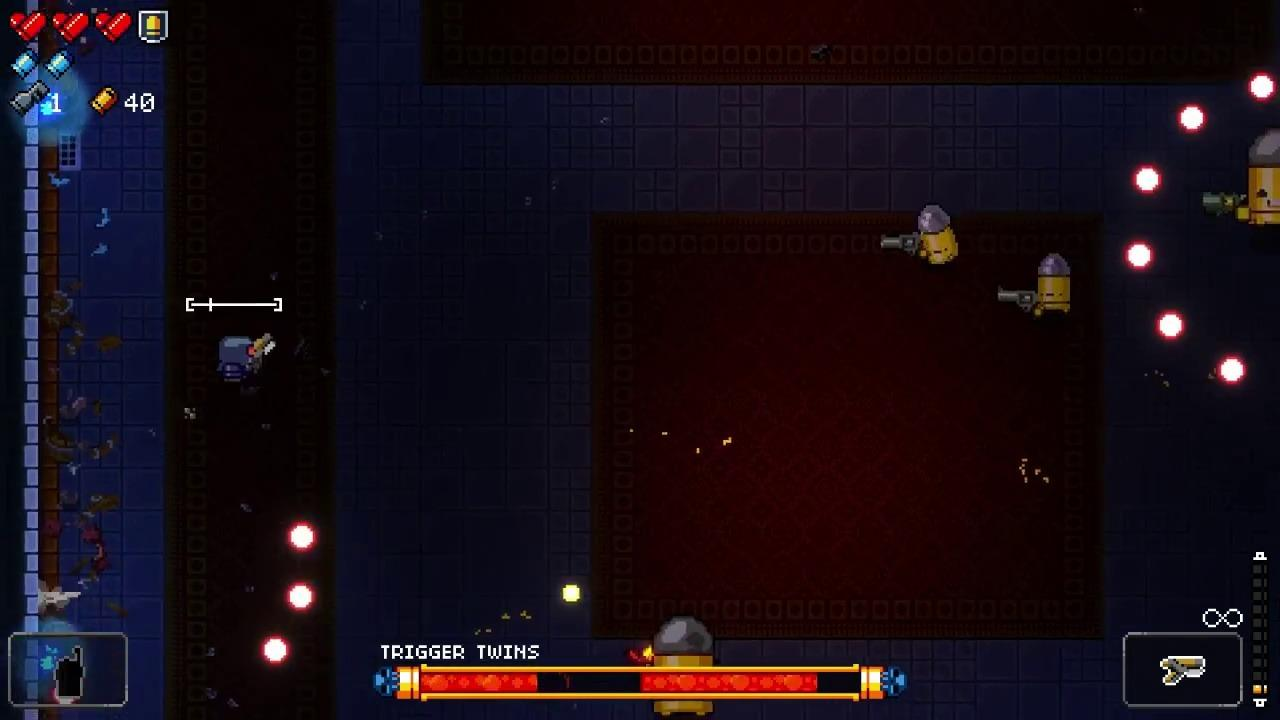boss_smiley: (1248, 128, 1280, 227)
bullet: (287, 584, 318, 616), (1155, 309, 1185, 340), (259, 637, 289, 667), (1124, 243, 1154, 272), (1135, 165, 1163, 196), (1248, 73, 1276, 103), (1218, 357, 1247, 385), (1178, 105, 1207, 133), (290, 527, 316, 552)
bullet_kin: (918, 205, 962, 270), (1034, 253, 1073, 314)
player: (217, 336, 256, 387)
